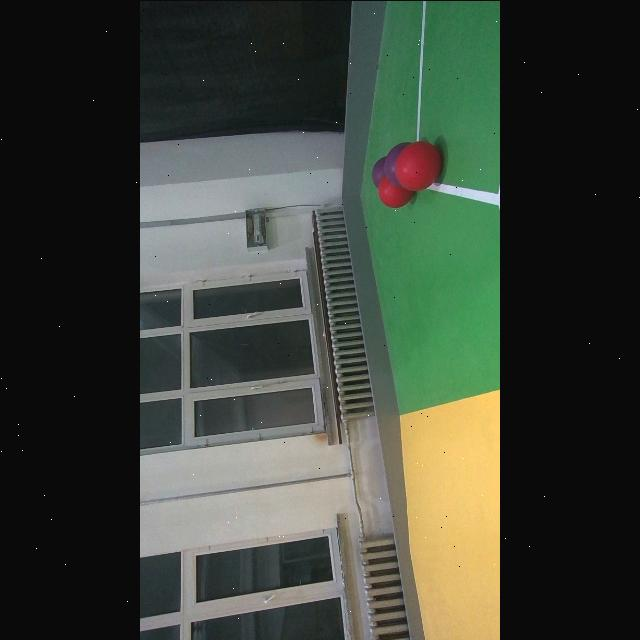P: (385, 140, 419, 183)
R: (396, 140, 442, 190), (380, 174, 416, 208)
